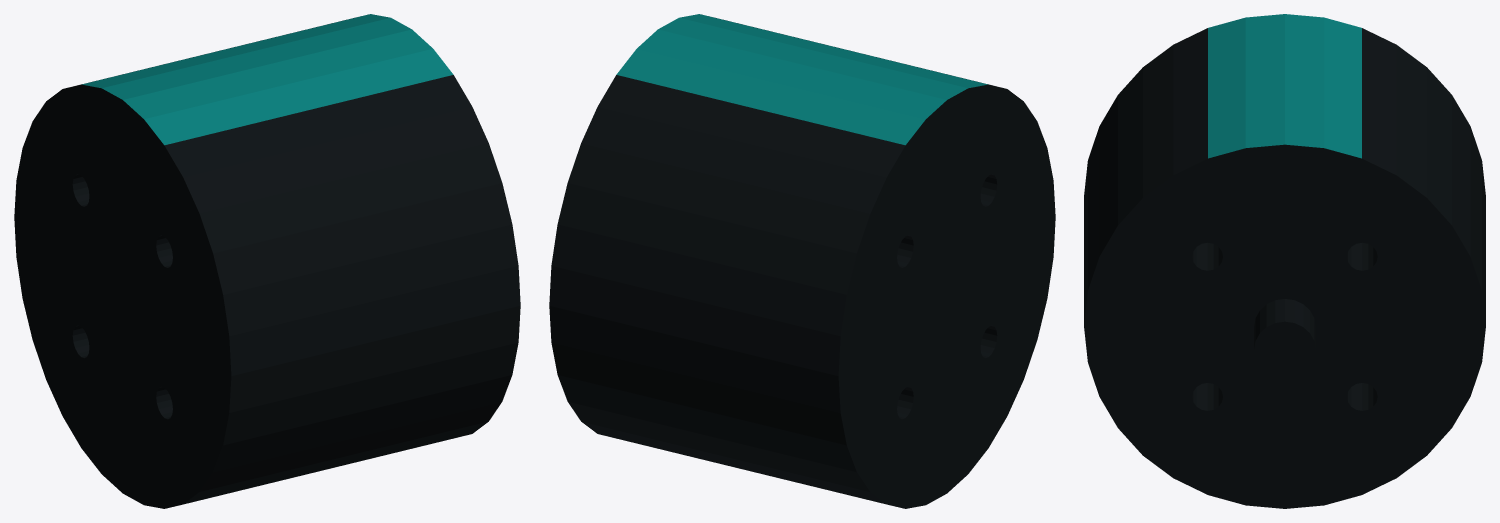
Rendered from kit_motor_12.obj.
3 views of the same model, side by side, from view 1: azimuth 30°, elevation 25°; view 2: azimuth 150°, elevation 25°; view 3: azimuth 270°, elevation 25° (orthographic). The views are drawn at different scales.
Visible parts, largest first — view 1: kit_motor_12; view 2: kit_motor_12; view 3: kit_motor_12.
Boxes of the visible parts, x1,y1,x2,y2 form: kit_motor_12: (14, 14, 520, 508); kit_motor_12: (549, 14, 1055, 508); kit_motor_12: (1084, 14, 1485, 508).
Size of the model in its own units: 0.047 by 0.052 by 0.052.
